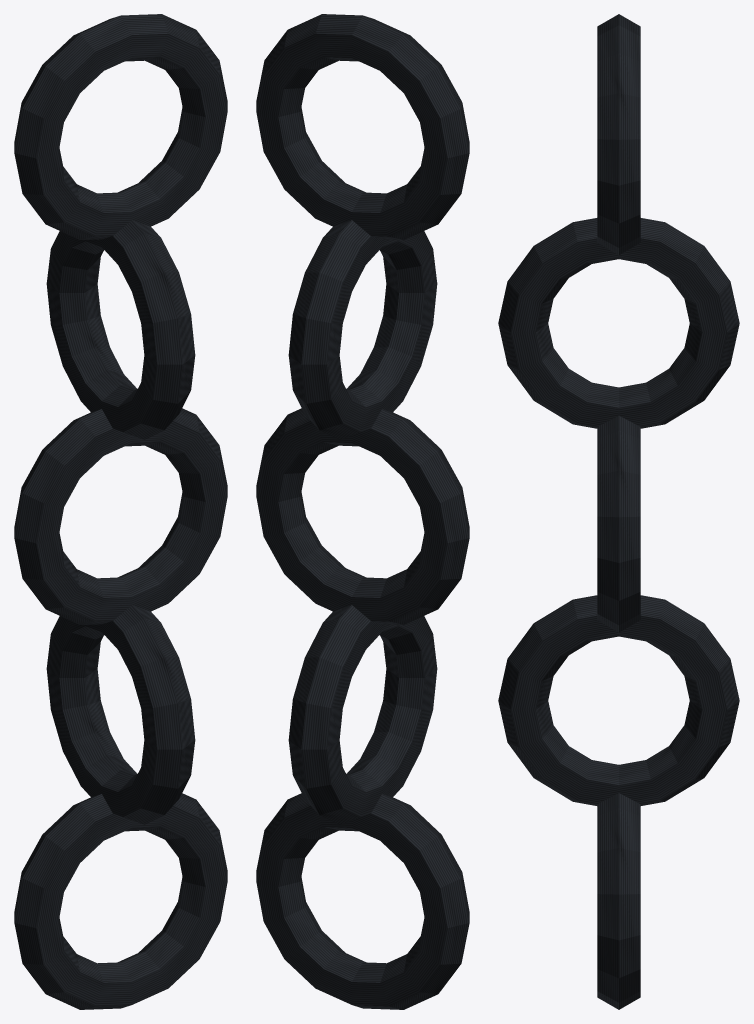
Rendered from SM_FC_HangingChain.glb.
3 views of the same model, side by side, from view 1: azimuth 30°, elevation 25°; view 2: azimuth 150°, elevation 25°; view 3: azimuth 270°, elevation 25° (orthographic).
Visible parts, largest first — view 1: SM_FC_HangingChain; view 2: SM_FC_HangingChain; view 3: SM_FC_HangingChain.
Boxes of the visible parts, box(x1,y1,x2,y2) form: SM_FC_HangingChain: box(14, 14, 227, 1009); SM_FC_HangingChain: box(256, 14, 469, 1009); SM_FC_HangingChain: box(498, 14, 739, 1009).
Size of the model in its own units: 0.58 by 2.58 by 0.58.
1 material, 1 textured.
